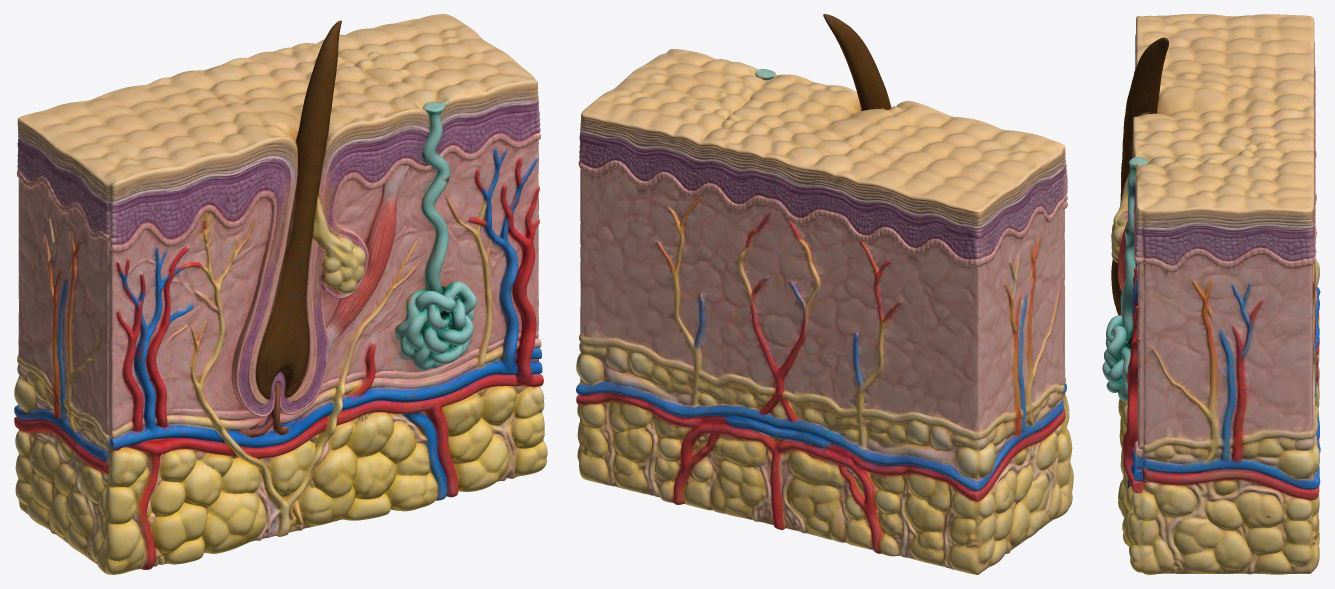
File: human-skin-layers.glb
3 renders of one model, left to right at view 1: azimuth 30°, elevation 25°; view 2: azimuth 150°, elevation 25°; view 3: azimuth 270°, elevation 25°, orthographic. The views are drawn at different scales.
Parts seen in each view (by area): view 1: human-skin-layers; view 2: human-skin-layers; view 3: human-skin-layers.
Boxes of the visible parts, <box> form: human-skin-layers: <box>14,14,547,574</box>; human-skin-layers: <box>576,14,1073,574</box>; human-skin-layers: <box>1102,14,1320,574</box>.
Bounding box in the file's own units: 0.2853 × 0.3 × 0.1309.
1 material, 1 textured.
